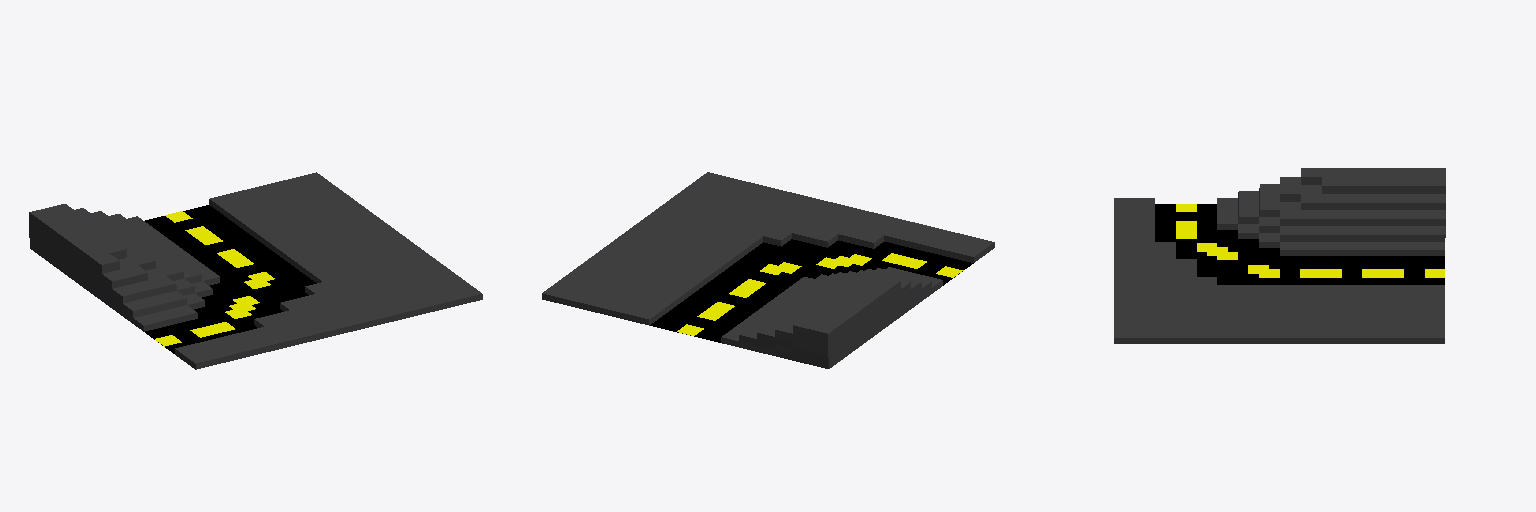
Rendered from main_street.obj.
3 renders of one model, left to right at view 1: azimuth 30°, elevation 25°; view 2: azimuth 150°, elevation 25°; view 3: azimuth 270°, elevation 25°, orthographic.
Parts seen in each view (by area): view 1: Plane_Plane.001, Plane.001_Plane.002, Plane.002_Plane.003; view 2: Plane_Plane.001, Plane.001_Plane.002, Plane.002_Plane.003; view 3: Plane_Plane.001, Plane.001_Plane.002, Plane.002_Plane.003.
Boxes of the visible parts, <box> form: Plane_Plane.001: <box>29,172,482,369</box>; Plane.001_Plane.002: <box>145,205,316,353</box>; Plane.002_Plane.003: <box>155,211,274,346</box>; Plane_Plane.001: <box>542,172,994,368</box>; Plane.001_Plane.002: <box>650,239,973,342</box>; Plane.002_Plane.003: <box>677,253,963,335</box>; Plane_Plane.001: <box>1114,168,1445,343</box>; Plane.001_Plane.002: <box>1155,204,1444,284</box>; Plane.002_Plane.003: <box>1176,204,1444,277</box>.
Bounding box in the file's own units: 16.05 × 1.92 × 16.09.